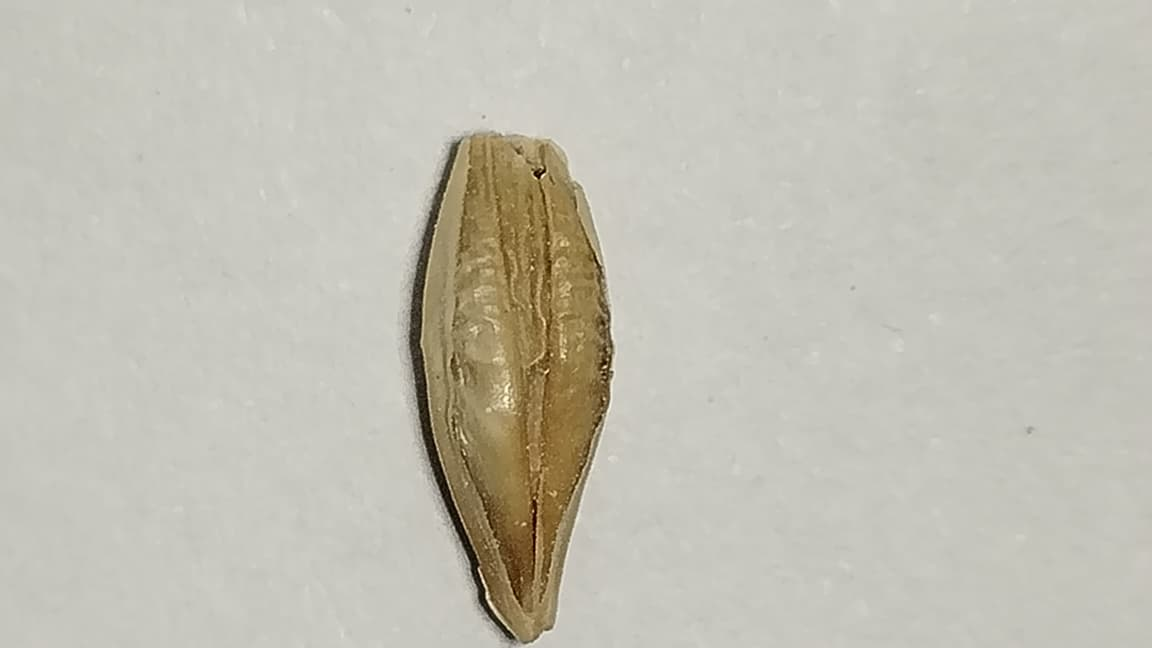healthy-50-40: (420, 137, 614, 642)
shriveledseed: (454, 214, 586, 409)
staindamage: (597, 271, 615, 424)
